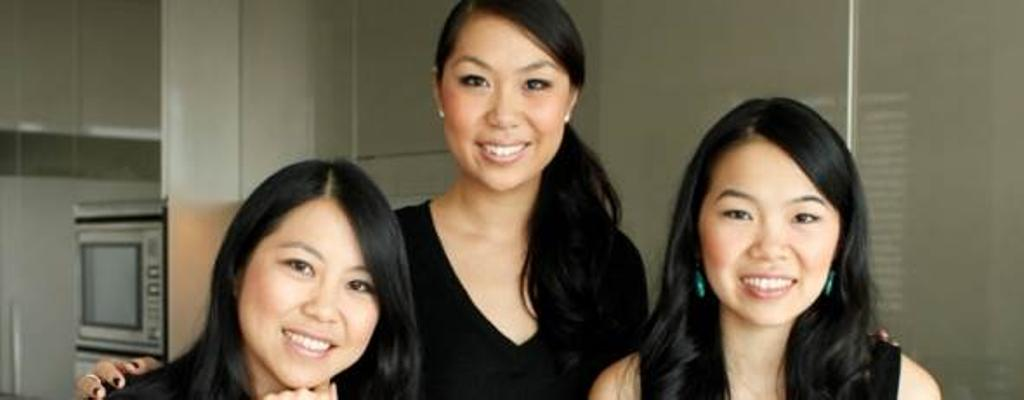face: (244, 196, 380, 386), (708, 136, 840, 320), (450, 18, 582, 184)
